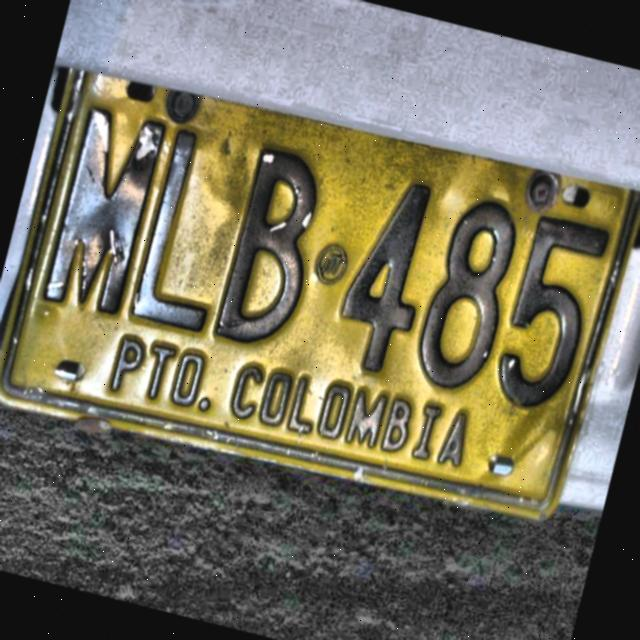4: (324, 167, 448, 386)
5: (486, 210, 612, 420)
8: (402, 188, 532, 406)
B: (206, 142, 340, 358)
L: (126, 125, 254, 336)
M: (34, 100, 170, 323)
